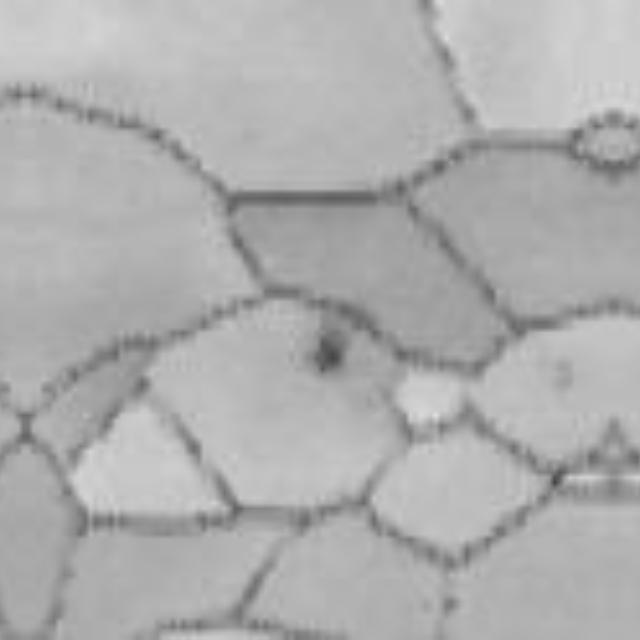good_void: (321, 330, 347, 372), (450, 599, 460, 614)
